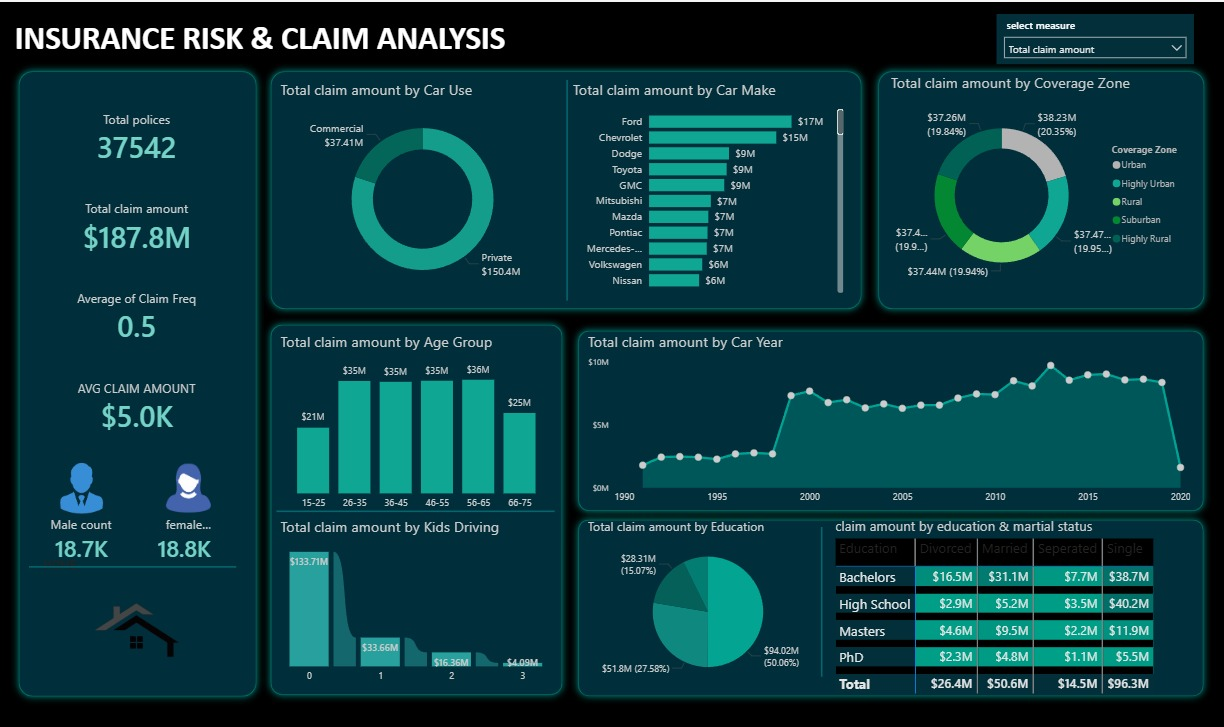

The dashboard page shown, as its layout file describes it:
{"tool":"powerbi","page":{"name":"Page 1","canvas":[1600,950],"ordinal":0},"visuals":[{"type":"textbox","box":[15.2,15.2,658.4,74],"z":0},{"type":"shape","box":[15,80,330,835],"z":1000},{"type":"cardVisual","fields":{"Data":["insurance_data_car.Total polices","insurance_data_car.Total claim amount","Avg(insurance_data_car.Claim Freq)","insurance_data_car.AVG CLAIM AMOUNT"]},"box":[45.5,123.3,269.4,459.2],"z":2000},{"type":"cardVisual","fields":{"Data":["insurance_data_car.Male count","insurance_data_car.female count"]},"box":[45.5,645.2,260,110.1],"z":3000},{"type":"image","box":[32.3,567.4,148,132.8],"z":4000},{"type":"image","box":[193.5,595.8,106.3,74],"z":5000},{"type":"slicer","fields":{"Values":["select measure.select measure"]},"box":[1300,15,257.5,65],"z":6000},{"type":"shape","box":[345,80,790,330],"z":7000},{"type":"donutChart","fields":{"Y":["insurance_data_car.Total polices"],"Category":["insurance_data_car.Car Use"]},"box":[362.5,102.5,380,285],"z":8000},{"type":"clusteredBarChart","fields":{"Y":["insurance_data_car.Total polices"],"Category":["insurance_data_car.Car Make"]},"box":[742.5,102.5,362.5,282.5],"z":9000},{"type":"shape","box":[1135,80,445,330],"z":10000},{"type":"donutChart","fields":{"Y":["insurance_data_car.Total polices"],"Category":["insurance_data_car.Coverage Zone"]},"box":[1157.5,92.5,400,295],"z":11000},{"type":"shape","box":[345,410,400,502.5],"z":12000},{"type":"clusteredColumnChart","fields":{"Y":["insurance_data_car.Total polices"],"Category":["insurance_data_car.Age Group"]},"box":[362.5,430,365,240],"z":13000},{"type":"ribbonChart","fields":{"Y":["insurance_data_car.Total polices"],"Category":["insurance_data_car.Kids Driving"]},"box":[362.5,670,362.5,225],"z":14000},{"type":"shape","box":[745,417.5,835,255],"z":15000},{"type":"areaChart","fields":{"Y":["insurance_data_car.Total polices"],"Category":["insurance_data_car.Car Year"]},"box":[762.5,430,795,232.5],"z":16000},{"type":"shape","box":[745,665,835,250],"z":17000},{"type":"pieChart","fields":{"Y":["insurance_data_car.Total polices"],"Category":["insurance_data_car.Education"]},"box":[762.5,672.5,322.5,222.5],"z":18000},{"type":"pivotTable","title":"claim amount by education & martial status","fields":{"Rows":["insurance_data_car.Education"],"Columns":["insurance_data_car.Marital Status"],"Values":["insurance_data_car.Total claim amount"]},"box":[1085,670,515,265],"z":18001},{"type":"shape","box":[590,102.5,300,287.5],"z":18002},{"type":"shape","box":[925,685,295,195],"z":18003},{"type":"shape","box":[362.5,520,362.5,287.5],"z":18004},{"type":"image","title":"HOME","box":[52.5,722.5,252.5,170],"z":18005},{"type":"shape","box":[40,717.5,270,37.5],"z":18006}]}

Visuals, with their boxes in screenshot pixels (x1, y1, x2, y2), scaled from the page's 1600x950 canvas onto the 1224x727 screenshot:
textbox: region(12, 12, 515, 68)
shape: region(11, 61, 264, 700)
cardVisual - insurance_data_car.Total polices x insurance_data_car.Total claim amount: region(35, 94, 241, 446)
cardVisual - insurance_data_car.Male count x insurance_data_car.female count: region(35, 494, 234, 578)
image: region(25, 434, 138, 536)
image: region(148, 456, 229, 513)
slicer - select measure.select measure: region(994, 11, 1191, 61)
shape: region(264, 61, 868, 314)
donutChart - insurance_data_car.Total polices x insurance_data_car.Car Use: region(277, 78, 568, 297)
clusteredBarChart - insurance_data_car.Total polices x insurance_data_car.Car Make: region(568, 78, 845, 295)
shape: region(868, 61, 1209, 314)
donutChart - insurance_data_car.Total polices x insurance_data_car.Coverage Zone: region(885, 71, 1191, 297)
shape: region(264, 314, 570, 698)
clusteredColumnChart - insurance_data_car.Total polices x insurance_data_car.Age Group: region(277, 329, 557, 513)
ribbonChart - insurance_data_car.Total polices x insurance_data_car.Kids Driving: region(277, 513, 555, 685)
shape: region(570, 319, 1209, 515)
areaChart - insurance_data_car.Total polices x insurance_data_car.Car Year: region(583, 329, 1191, 507)
shape: region(570, 509, 1209, 700)
pieChart - insurance_data_car.Total polices x insurance_data_car.Education: region(583, 515, 830, 685)
"claim amount by education & martial status" pivotTable: region(830, 513, 1223, 716)
shape: region(451, 78, 681, 298)
shape: region(708, 524, 933, 673)
shape: region(277, 398, 555, 618)
"HOME" image: region(40, 553, 233, 683)
shape: region(31, 549, 237, 578)
